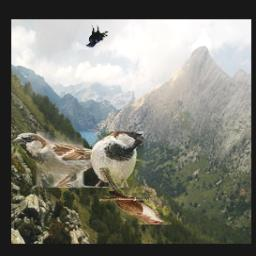Crow: (85, 25, 109, 47)
Cuckoo: (98, 168, 171, 225)
Sparrow: (12, 132, 143, 188)
